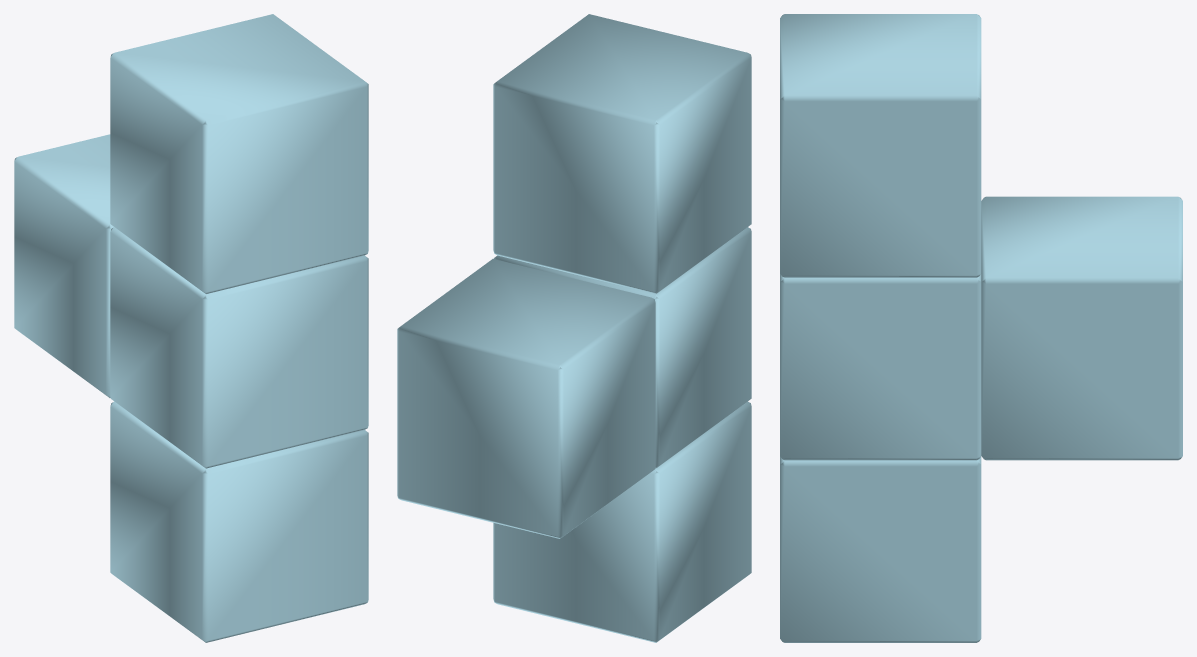
File: cyan_block_base_link.dae
3 renders of one model, left to right at view 1: azimuth 30°, elevation 25°; view 2: azimuth 150°, elevation 25°; view 3: azimuth 270°, elevation 25°, orthographic. The views are drawn at different scales.
Parts seen in each view (by area): view 1: root (×4); view 2: root (×4); view 3: root (×4).
Boxes of the visible parts, x1,y1,x2,y2 form: root (×4): [14, 14, 368, 642]; root (×4): [397, 14, 751, 642]; root (×4): [780, 14, 1182, 642].
Size of the model in its own units: 0.03 by 0.09 by 0.06.
